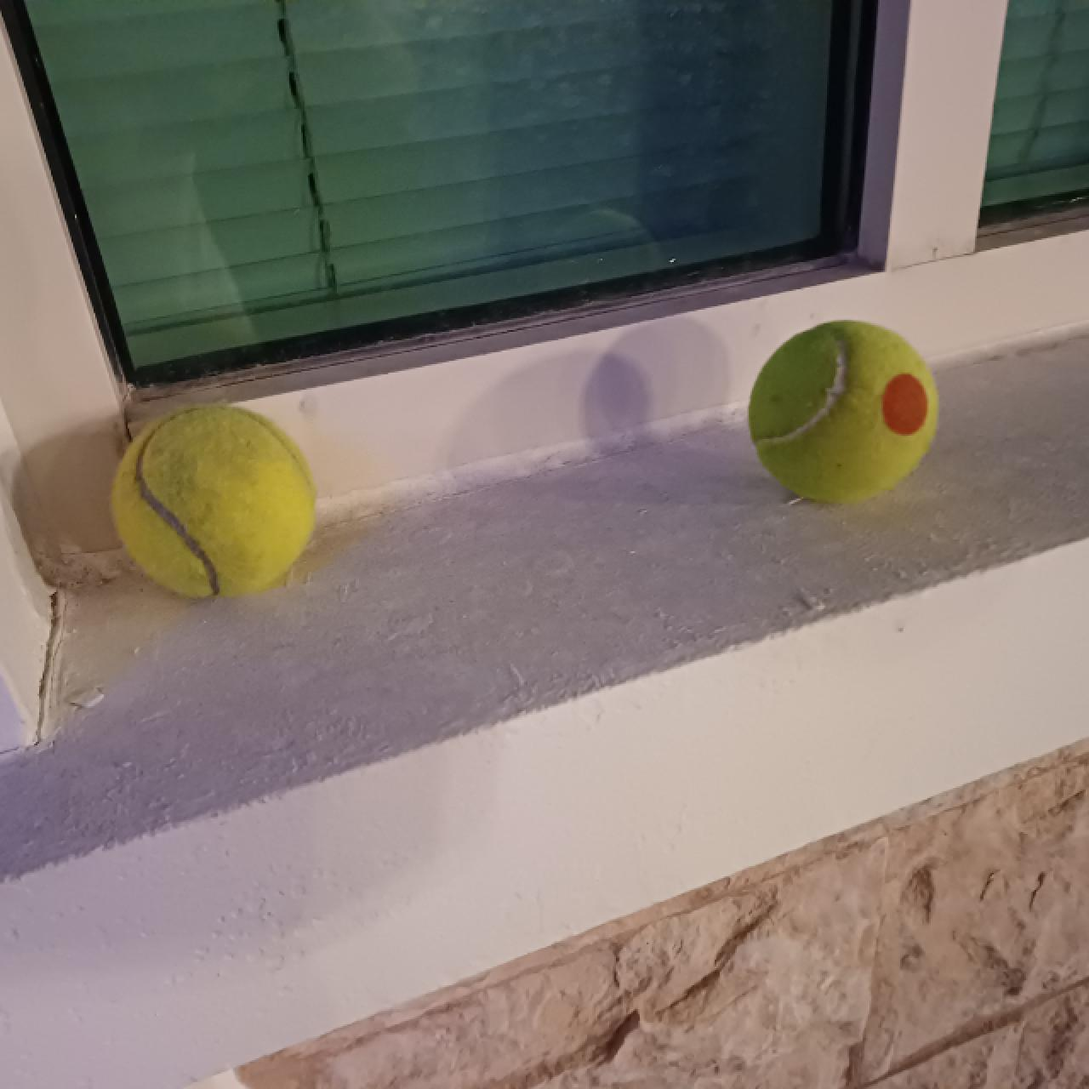tennis-ball: (111, 402, 316, 599), (749, 319, 939, 504)
